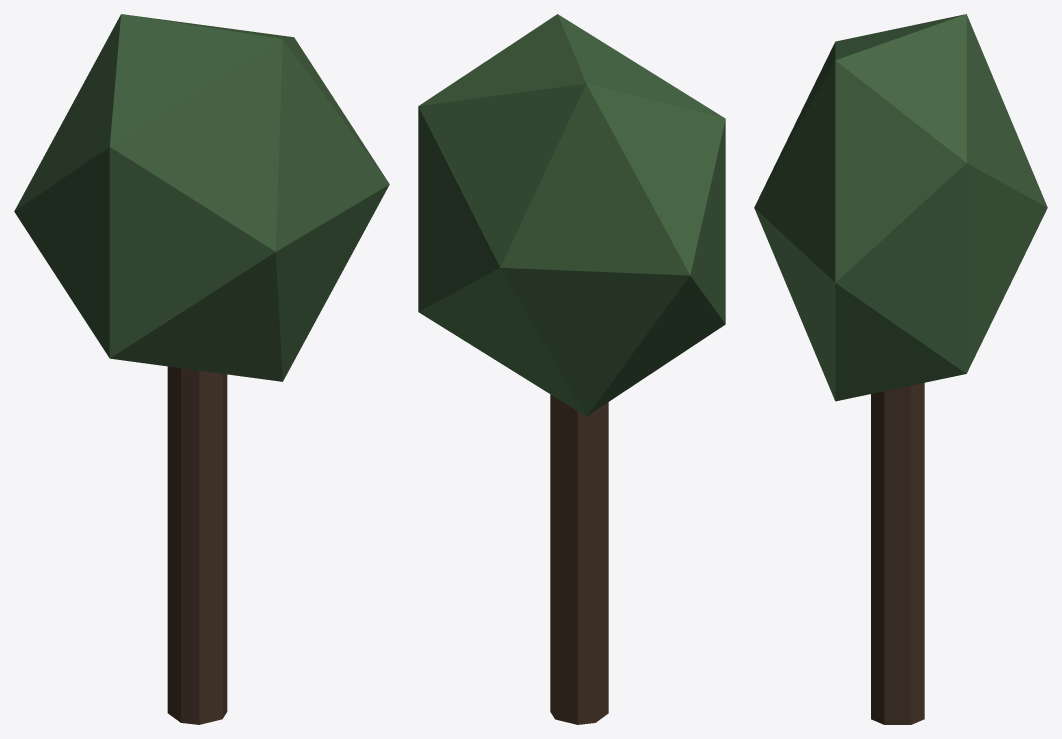
The model's file is SM_tree_2.fbx.
3 views of the same model, side by side, from view 1: azimuth 30°, elevation 25°; view 2: azimuth 150°, elevation 25°; view 3: azimuth 270°, elevation 25° (orthographic). The views are drawn at different scales.
Parts seen in each view (by area): view 1: pPlatonic2; view 2: pPlatonic2; view 3: pPlatonic2.
Part boxes in pixels (box(x1,y1,x2,y2)): pPlatonic2: box(14, 14, 389, 724); pPlatonic2: box(418, 14, 725, 724); pPlatonic2: box(754, 14, 1047, 724).
Size of the model in its own units: 173 by 365 by 143.
